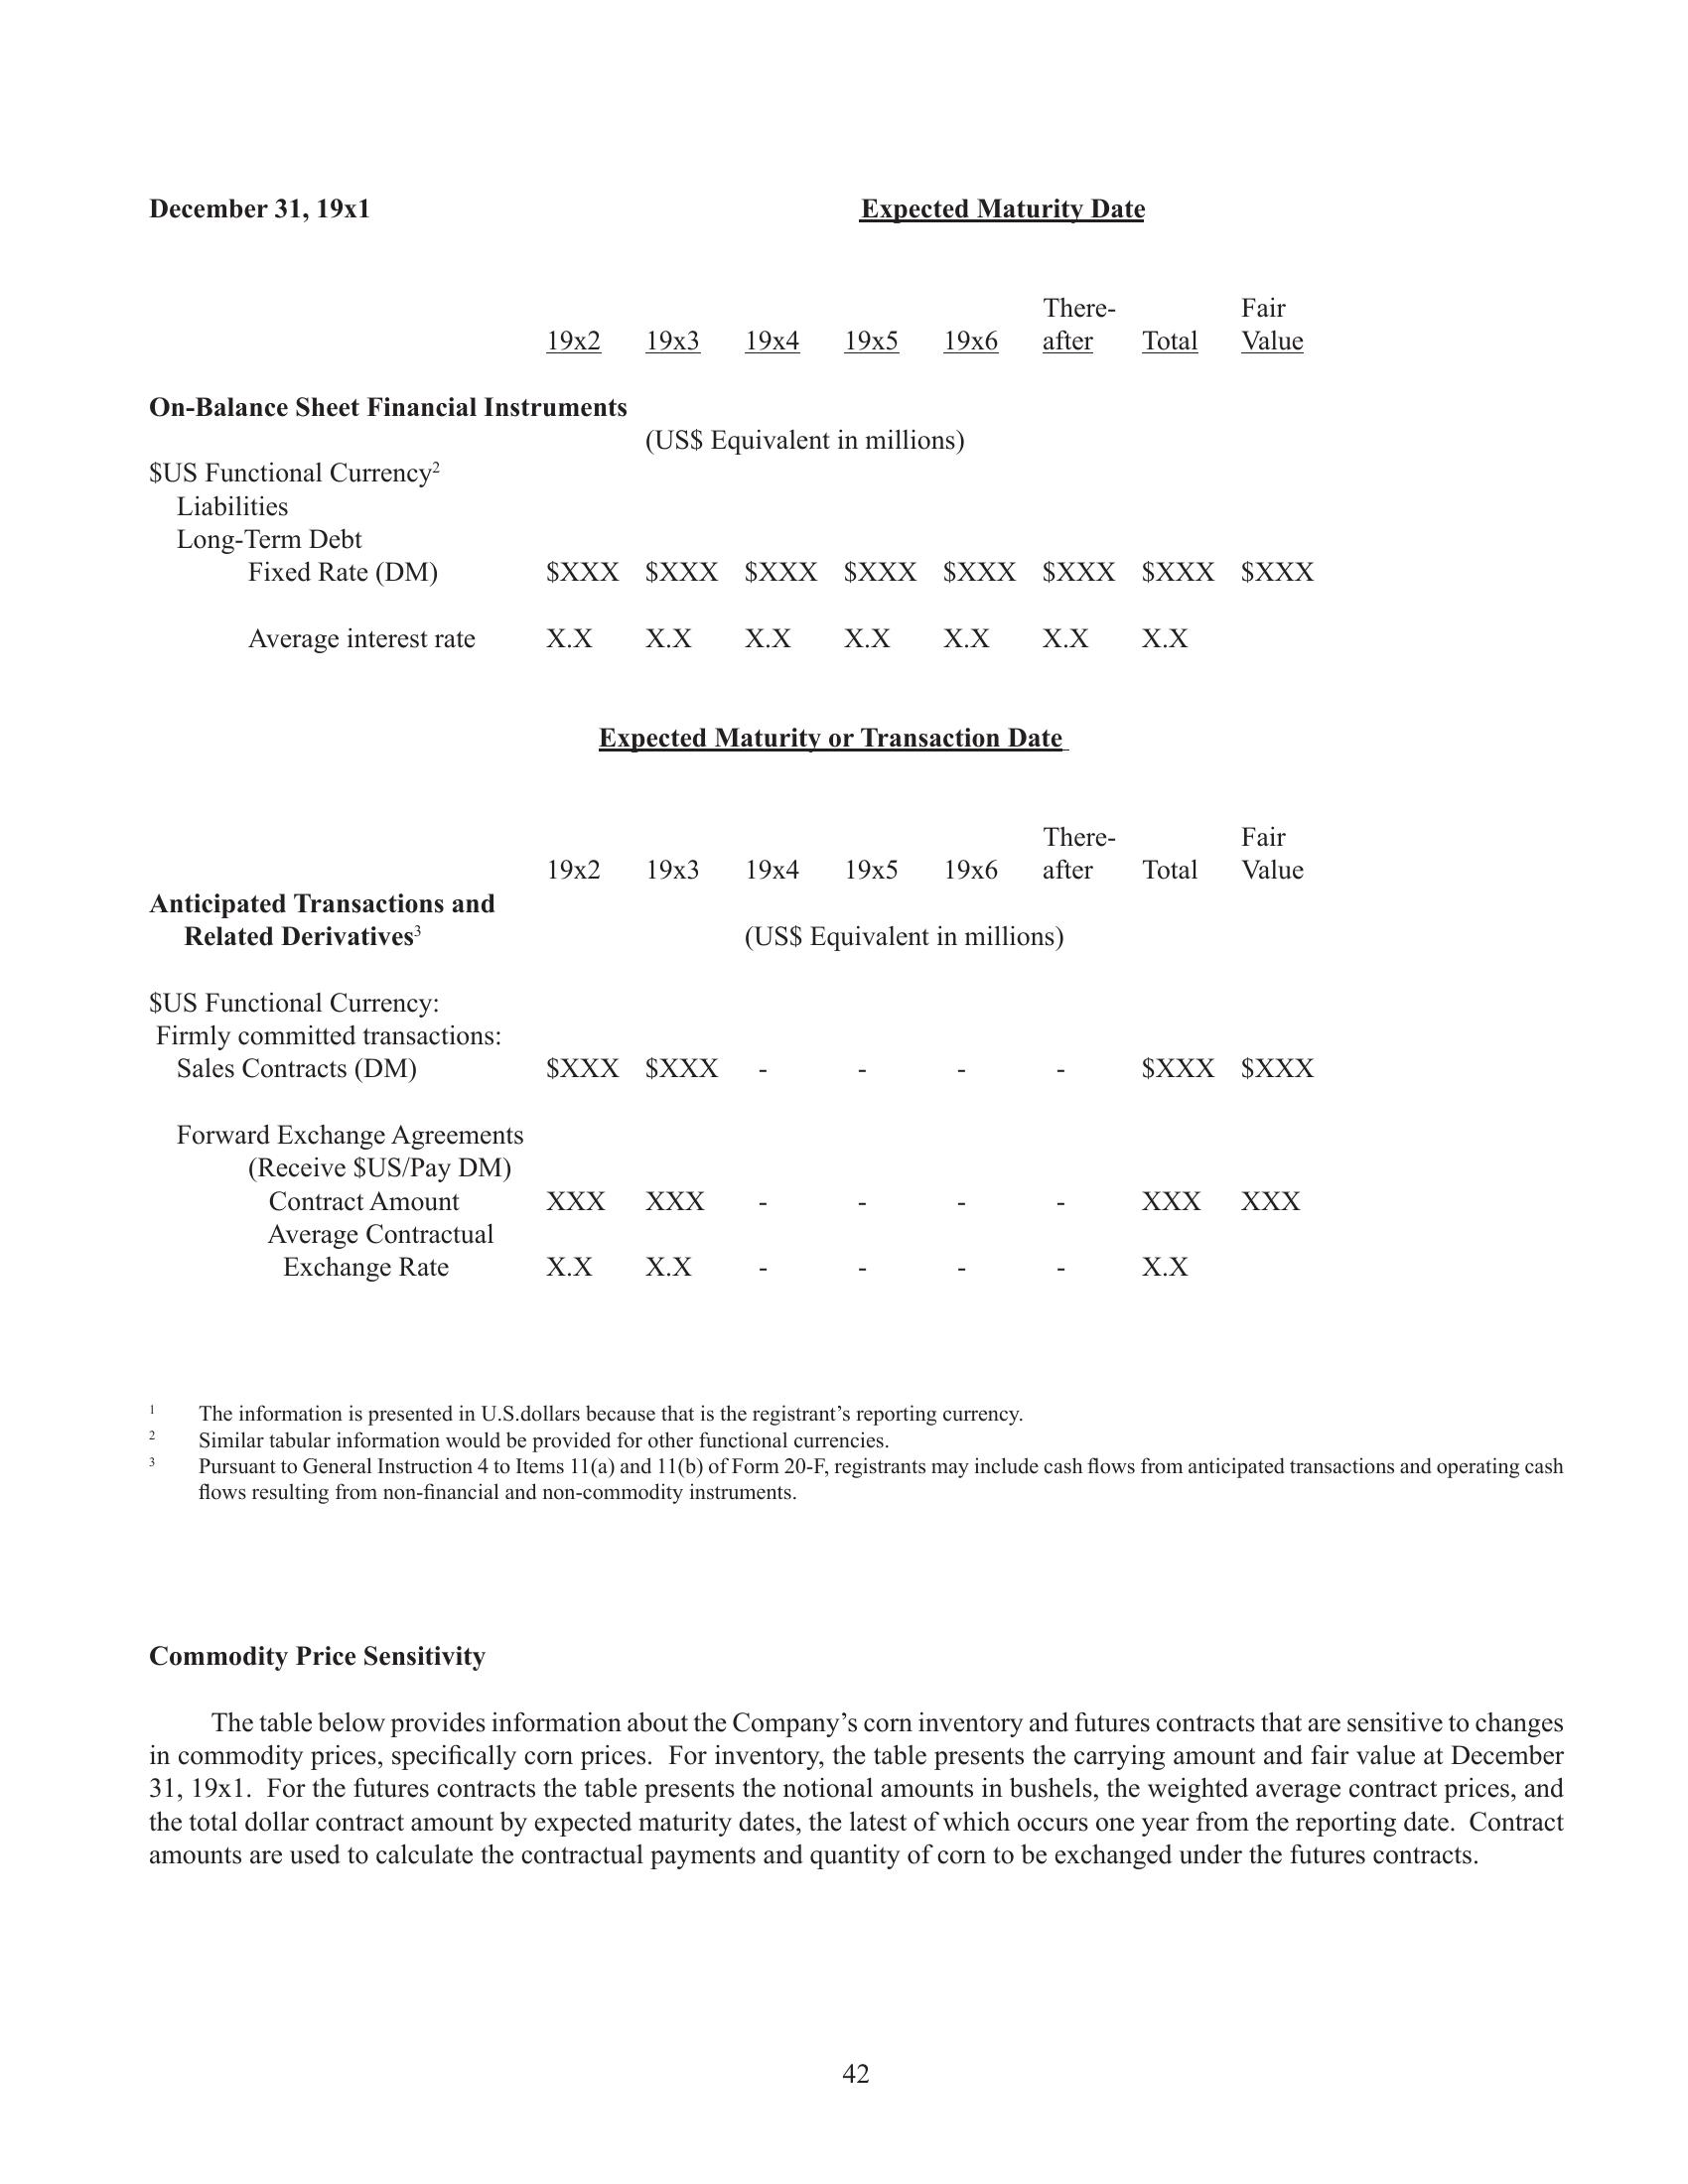table: (147, 814, 1317, 1294), (131, 287, 1323, 659)
